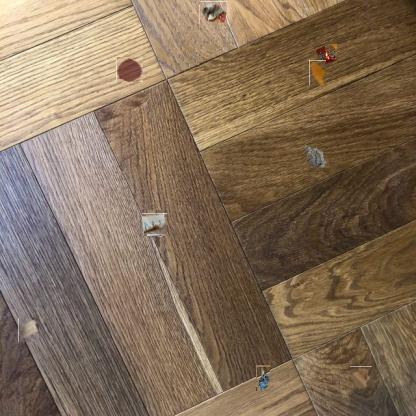dirty: (199, 1, 227, 24), (313, 43, 337, 67), (304, 144, 326, 170), (350, 366, 372, 391), (143, 212, 166, 235), (18, 318, 39, 342), (256, 366, 270, 392)
liquid: (116, 56, 143, 82), (309, 60, 326, 85)
